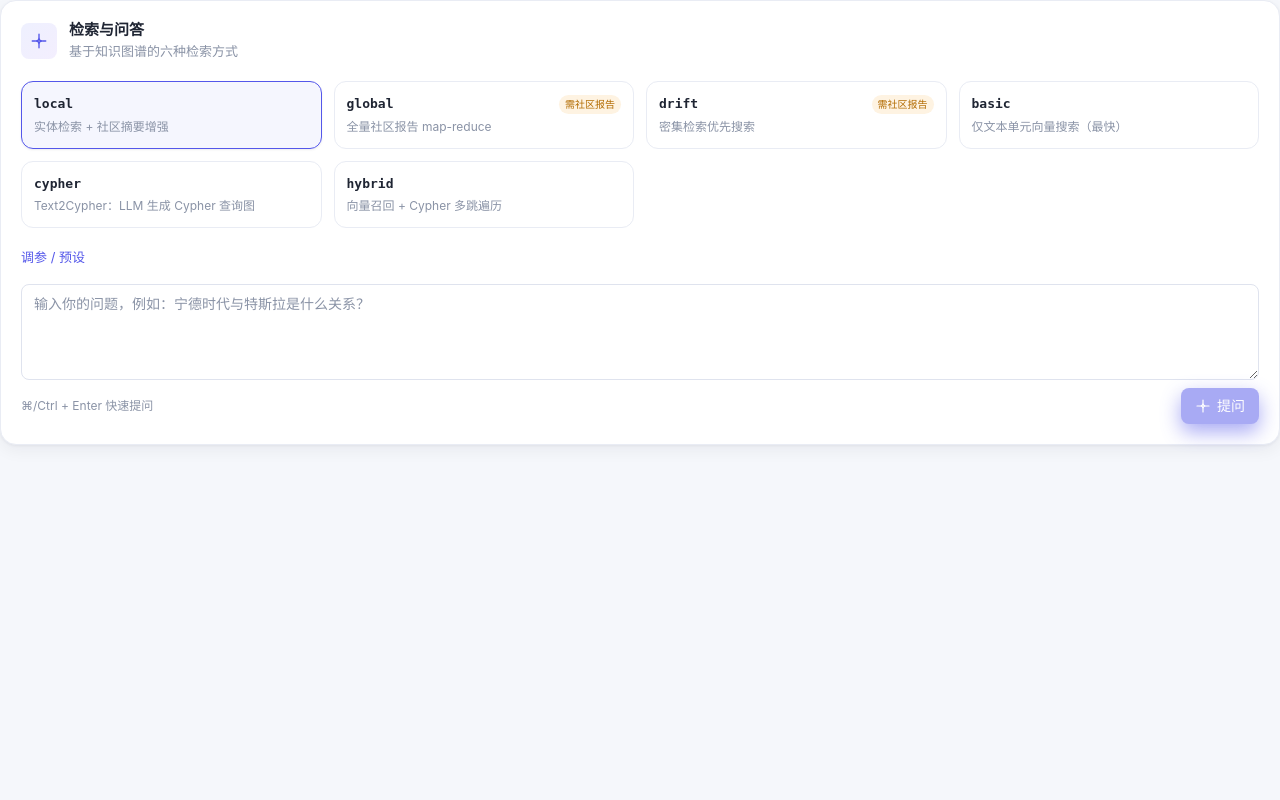
top_k is hidden for global method
Step 1. Click the button "调参 / 预设" → {"x": 53, "y": 258}, box [21, 248, 85, 268]
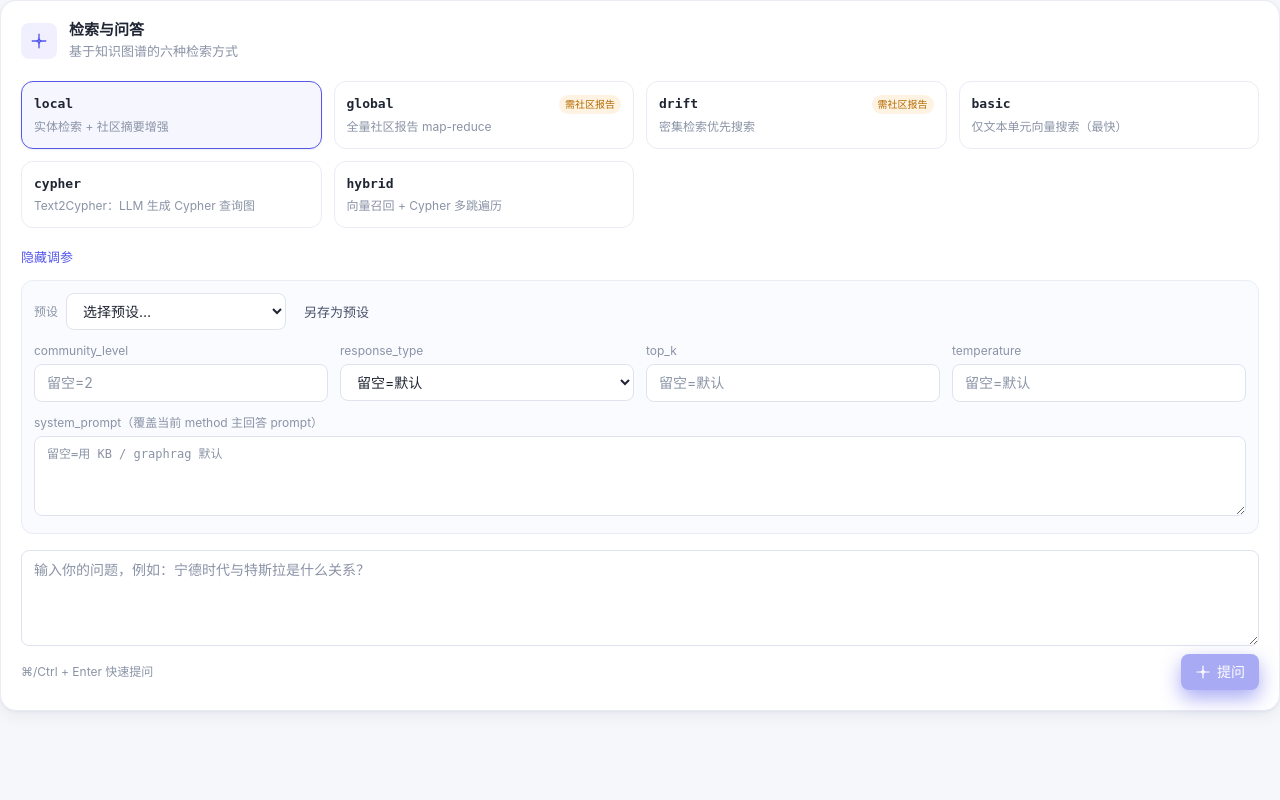
Now the number field labelled "community_level" is shown, box [34, 364, 328, 402]
Step 2. Click the button "global 需社区报告 全量社区报告 map-reduce" → {"x": 370, "y": 104}, box [334, 81, 634, 149]
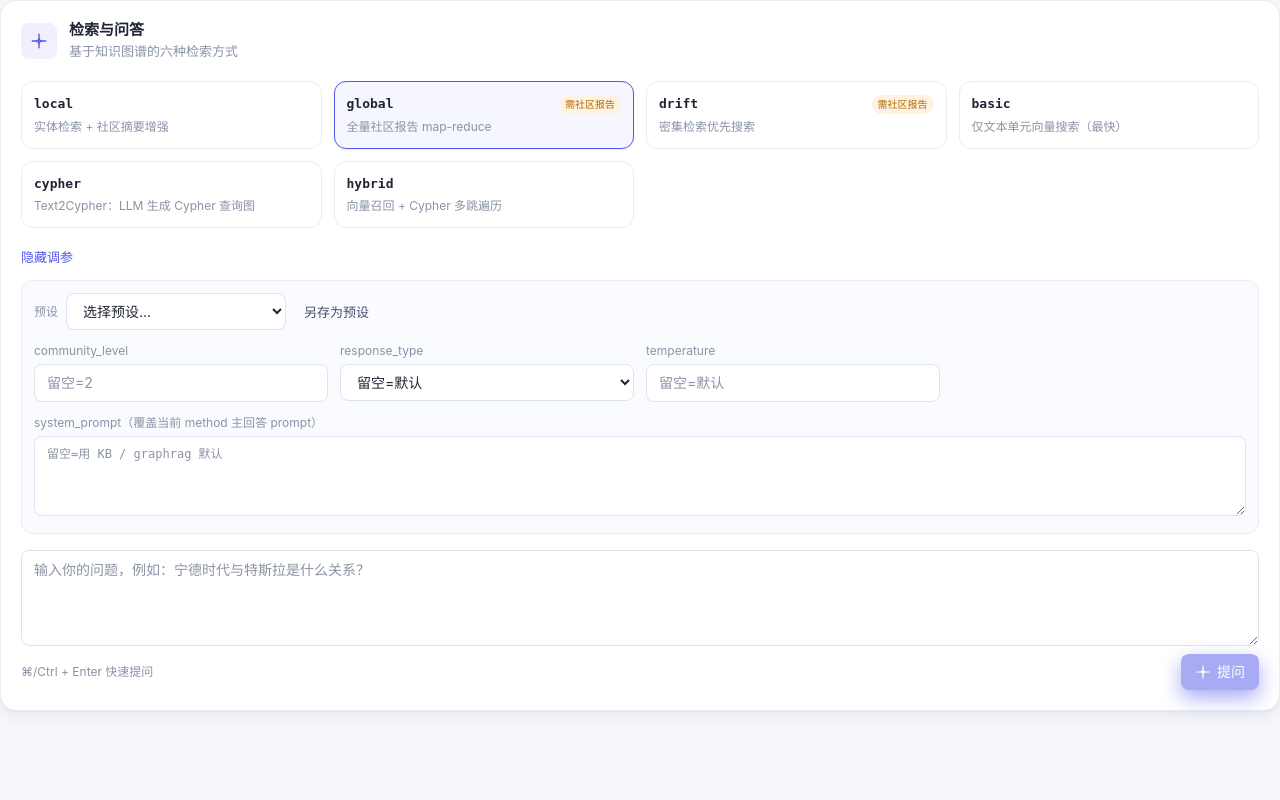
Now the label labelled "top_k" is gone
